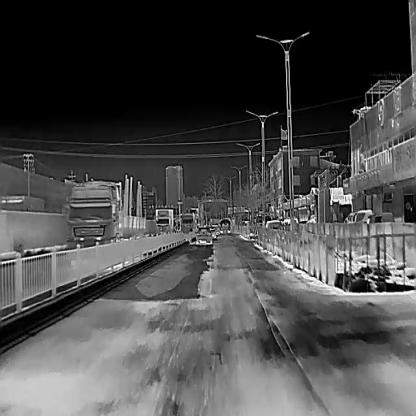car: (266, 221, 286, 242), (342, 208, 372, 222), (366, 210, 393, 222), (196, 226, 212, 244), (220, 218, 230, 232)
truck: (66, 180, 146, 250), (156, 208, 173, 231), (180, 212, 193, 232)
